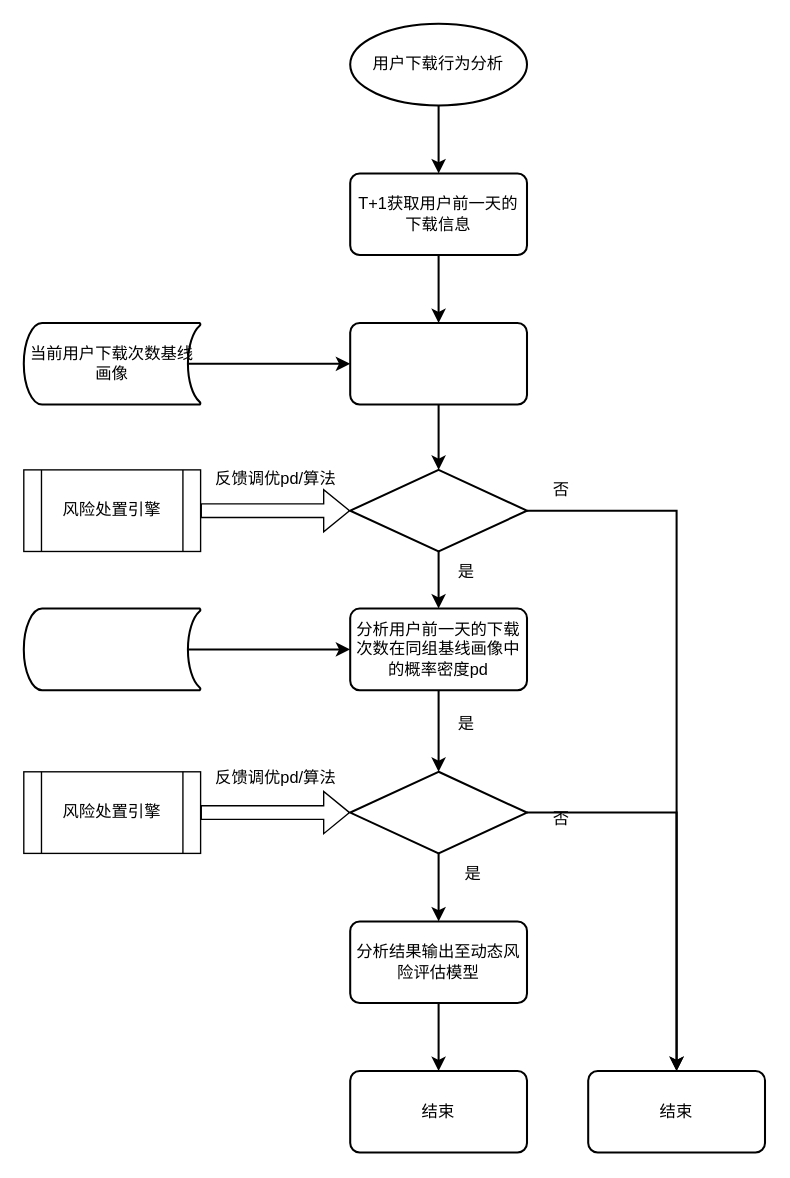
This 790x1178 diagram has some shape labels left out. Each missing label, with the box of its shape:
pd<=20?: (349, 468, 527, 552)
pd<=25?: (349, 770, 527, 854)
分析用户前一天的下载次数在基线画像中的概率密度pd: (349, 321, 527, 405)
当前用户同组下载 基线画像: (22, 607, 201, 691)
